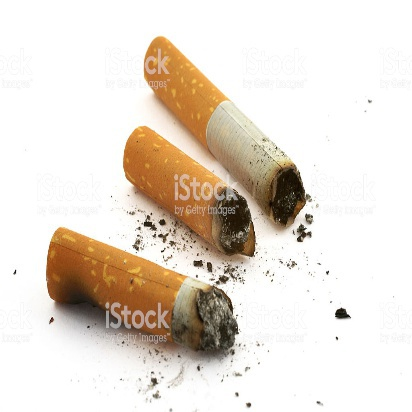cigarette: (141, 32, 312, 236), (43, 222, 242, 357), (120, 120, 261, 260)
